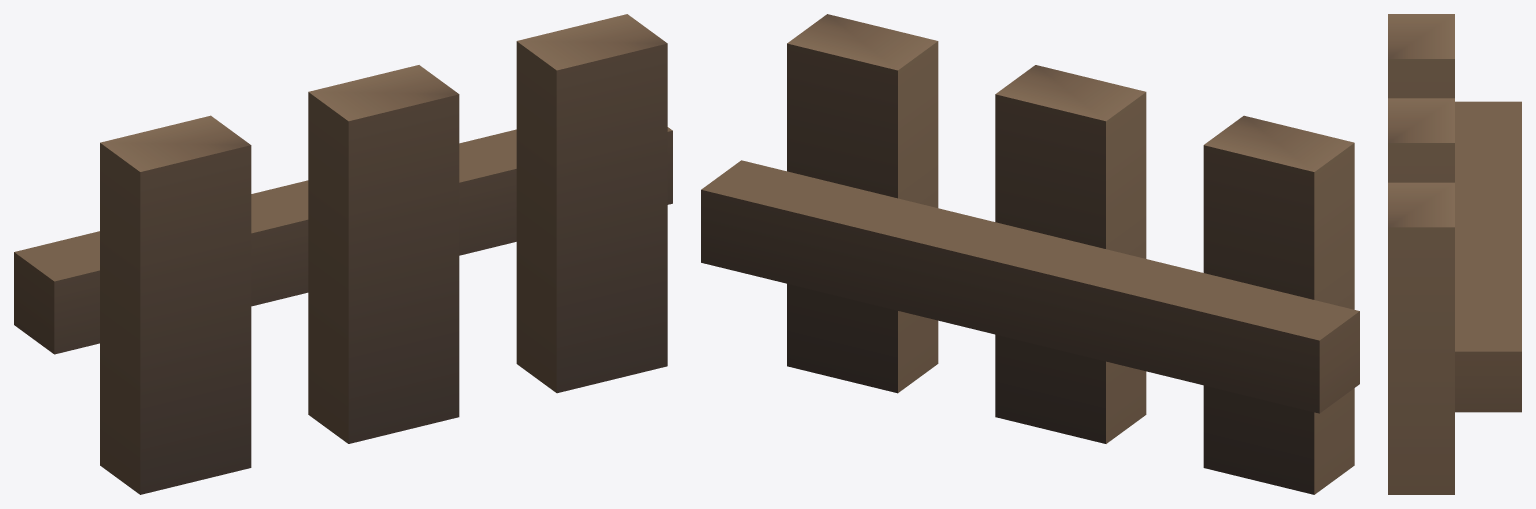
Rendered from Fence_2_2.fbx.
The picture shows the model from 3 angles, left to right: view 1: azimuth 30°, elevation 25°; view 2: azimuth 150°, elevation 25°; view 3: azimuth 270°, elevation 25°; orthographic projection. The views are drawn at different scales.
Parts seen in each view (by area): view 1: Fence_2_2; view 2: Fence_2_2; view 3: Fence_2_2.
Part boxes in pixels (x1=…): Fence_2_2: x1=14, y1=14, x2=672, y2=494; Fence_2_2: x1=701, y1=14, x2=1359, y2=494; Fence_2_2: x1=1388, y1=14, x2=1521, y2=494.
Size of the model in its own units: 322 by 160 by 72.63.
